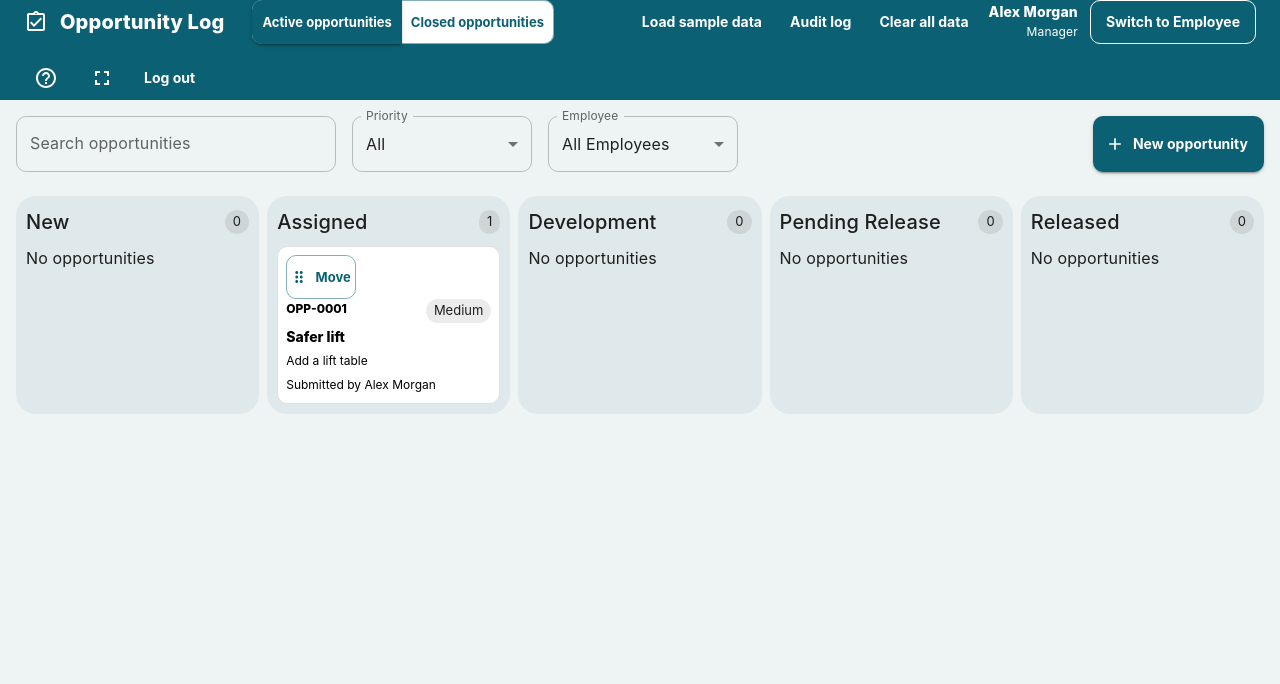
Test: login and application shell › lets a manager edit, assign, clear assignment, and records activity
The image size is (1280, 684).
Expected: the button with aria-label "move OPP-0001" is shown, x1=286 y1=255 x2=356 y2=299
Click the button with aria-label "open OPP-0001".
click(389, 347)  # box x1=286 y1=299 x2=491 y2=395
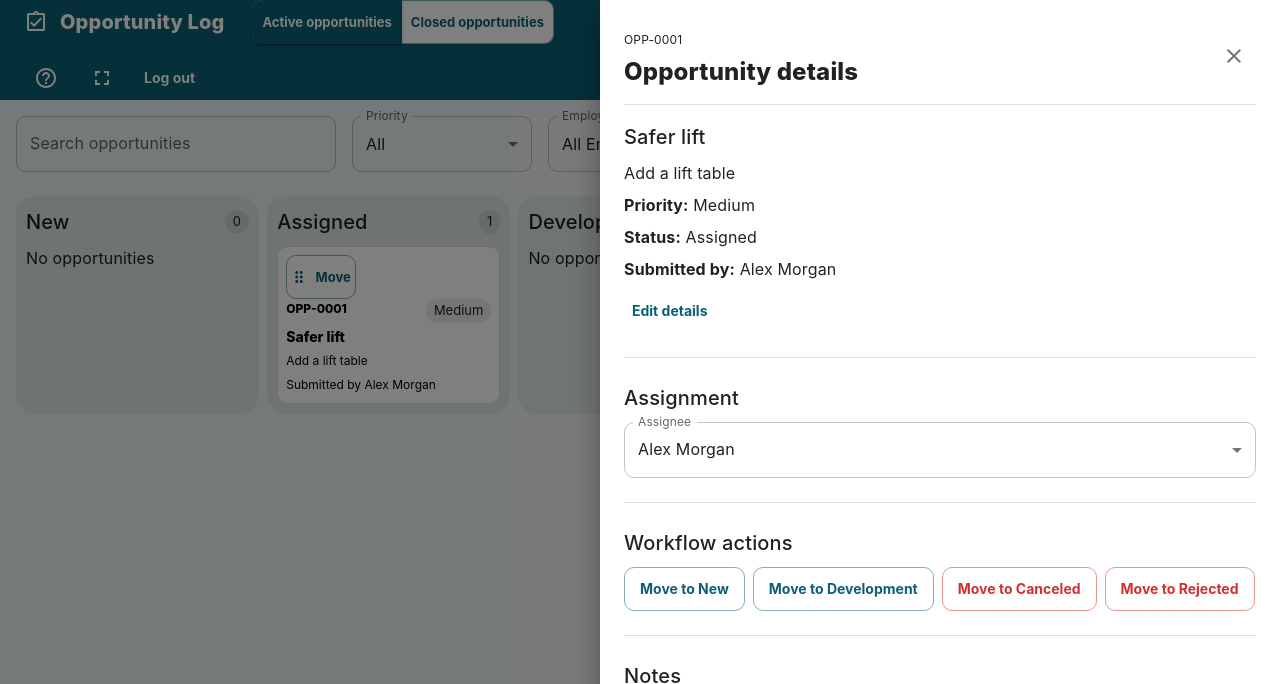
Click the button "Edit details".
click(670, 311)  # box x1=624 y1=289 x2=716 y2=333
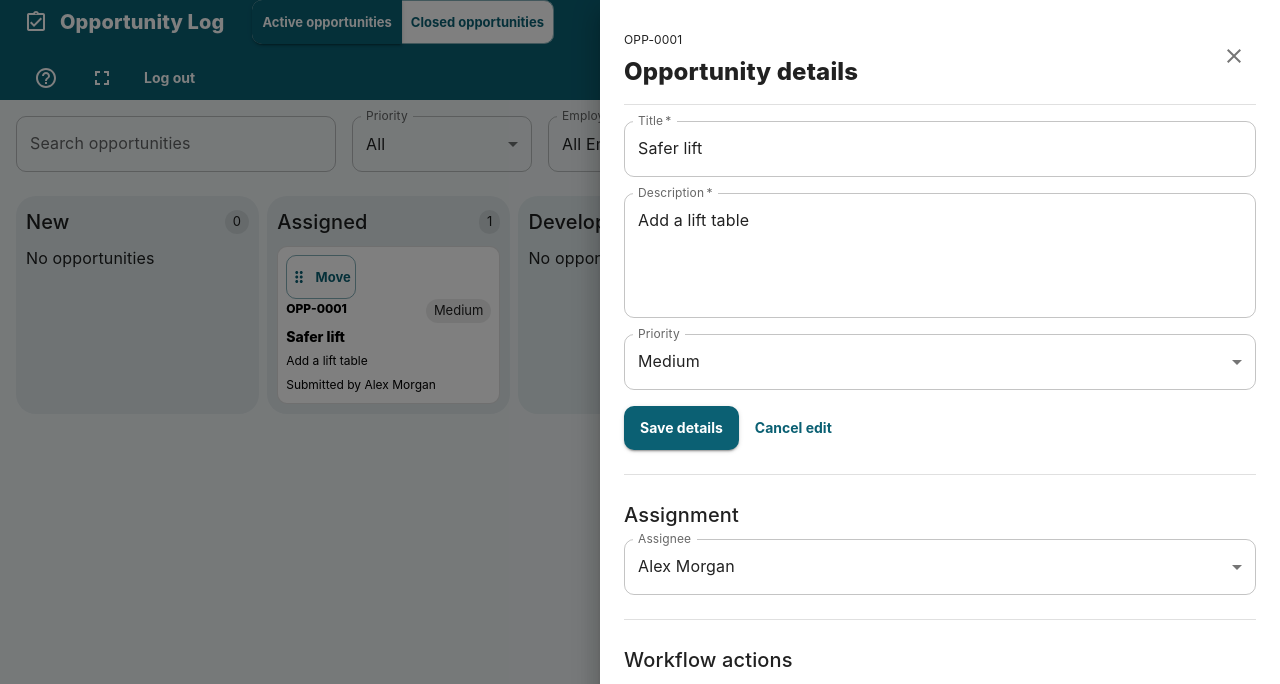
Replace the text in the field labelled "Title *" with "Safer lift station" at (940, 149), box x1=624 y1=121 x2=1256 y2=177
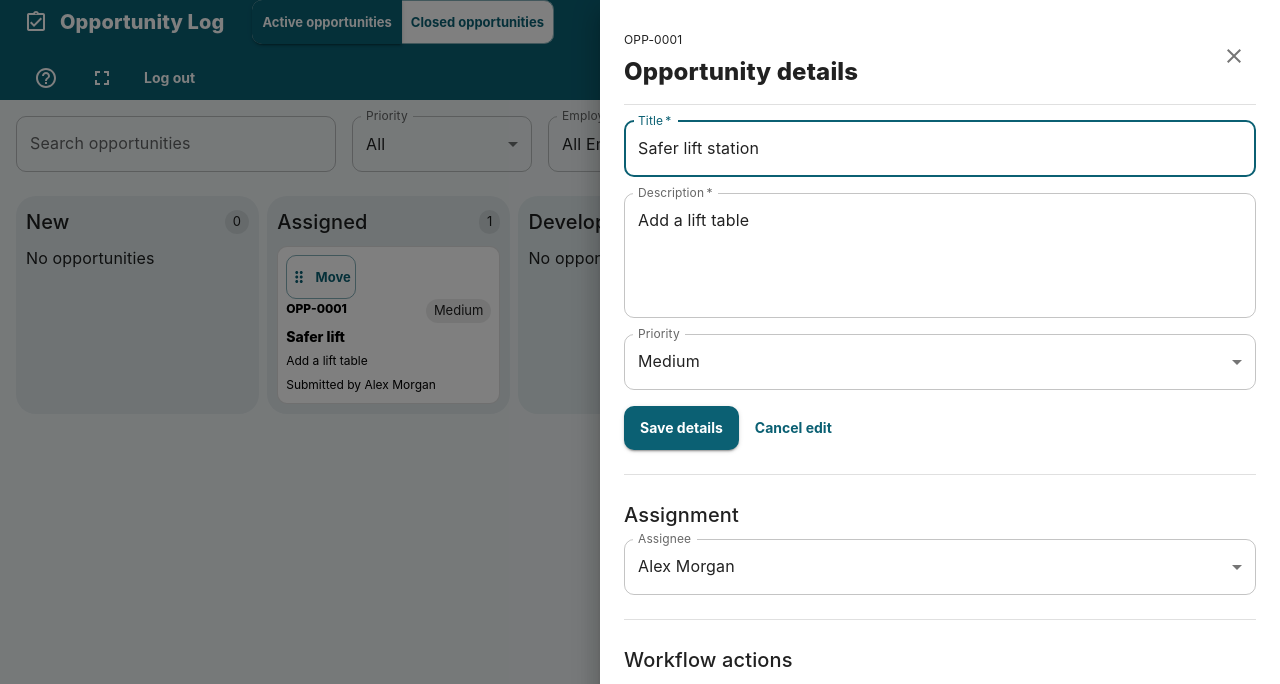
Click the button "Save details".
click(681, 428)  # box x1=624 y1=406 x2=739 y2=450
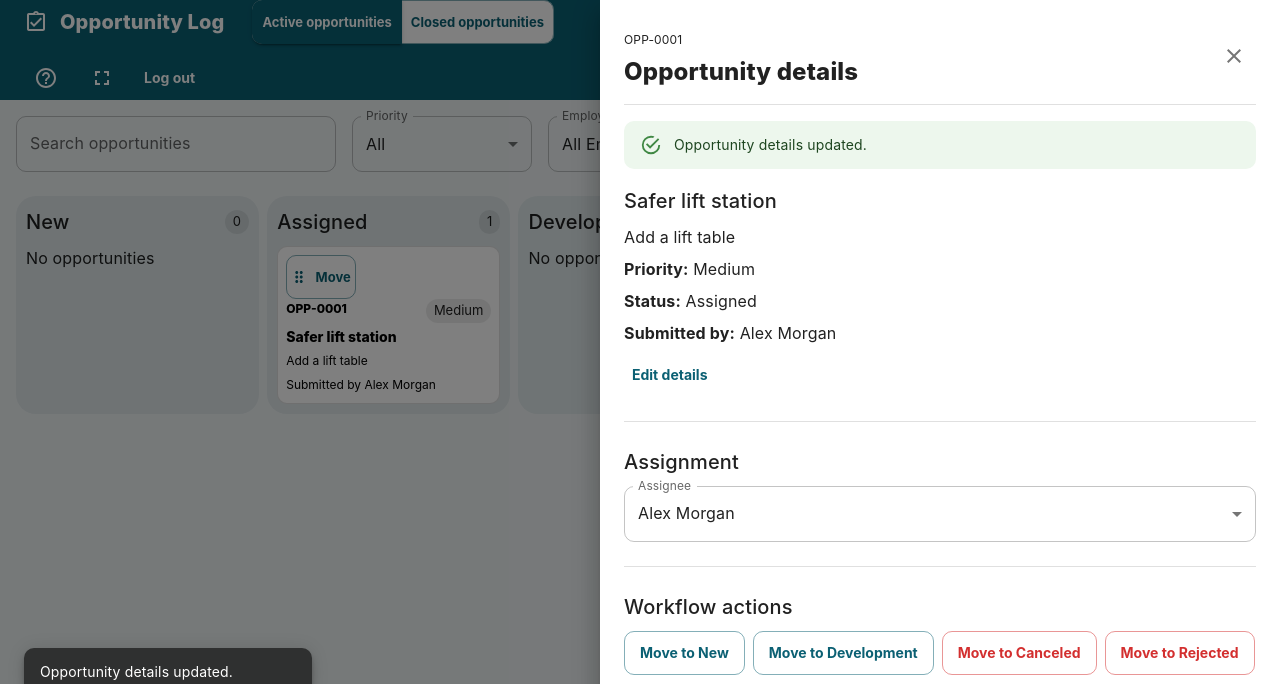
Result: the heading "Safer lift station" is shown at x1=624 y1=189 x2=777 y2=213
Click the dropdown named "assignee".
click(686, 513)  # box x1=638 y1=503 x2=735 y2=523
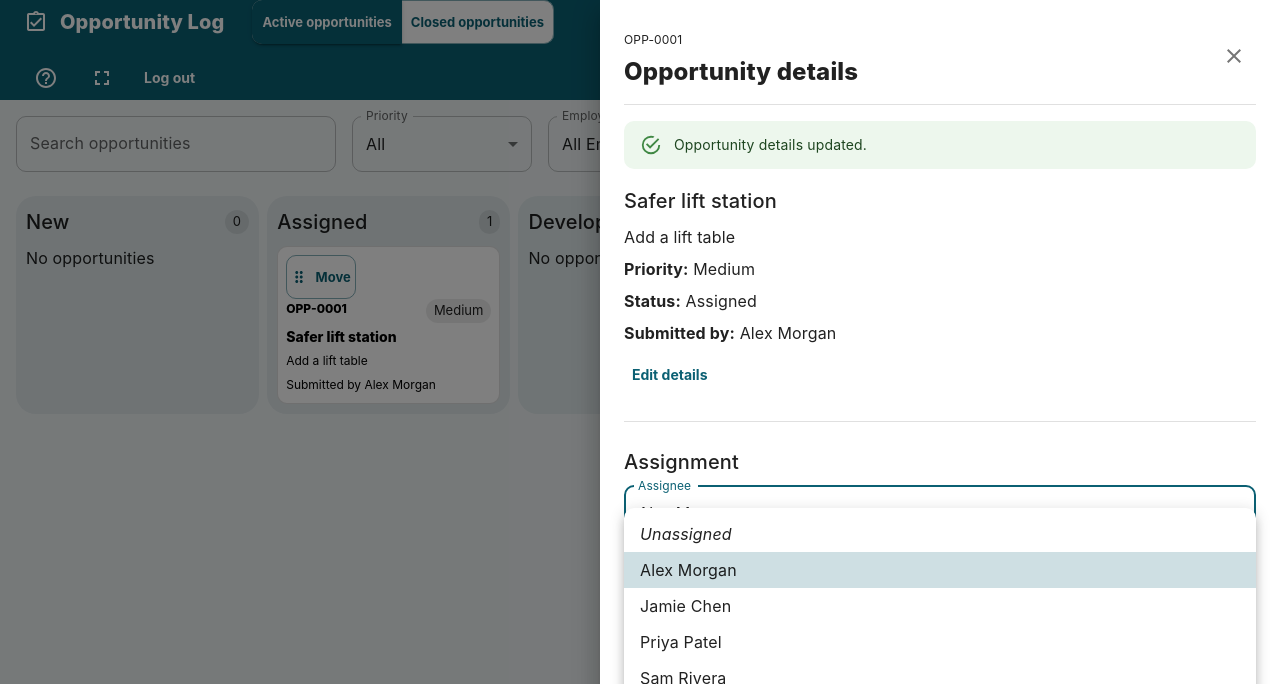
Click the option "Unassigned".
click(686, 534)  # box x1=640 y1=524 x2=732 y2=544
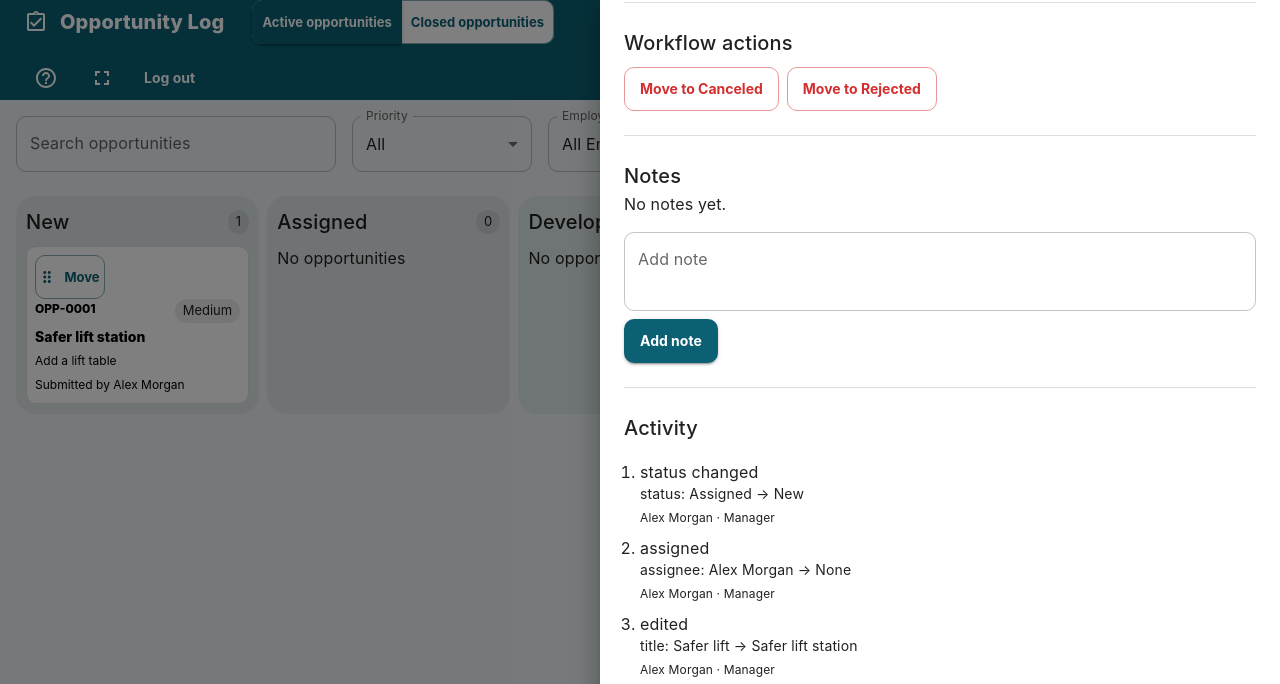
Result: the text "title: Safer lift → Safer lift station" is shown at x1=640 y1=637 x2=858 y2=654
